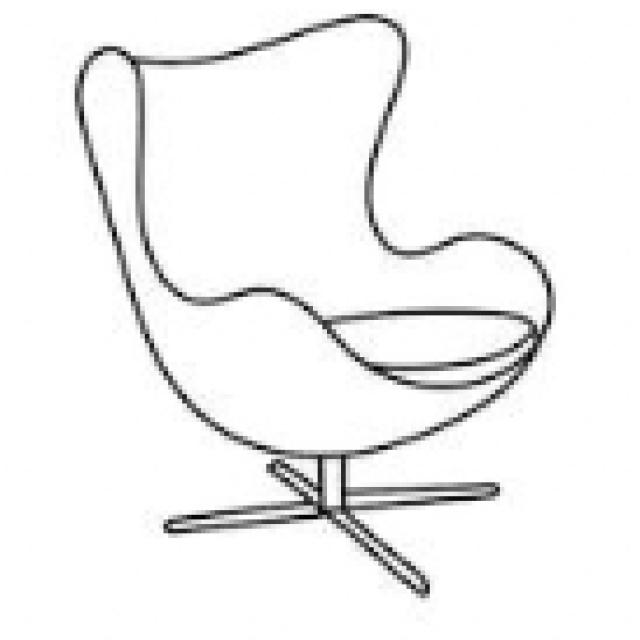Leg_Structure: (159, 475, 514, 610)
egg_armrest: (62, 7, 571, 472)
